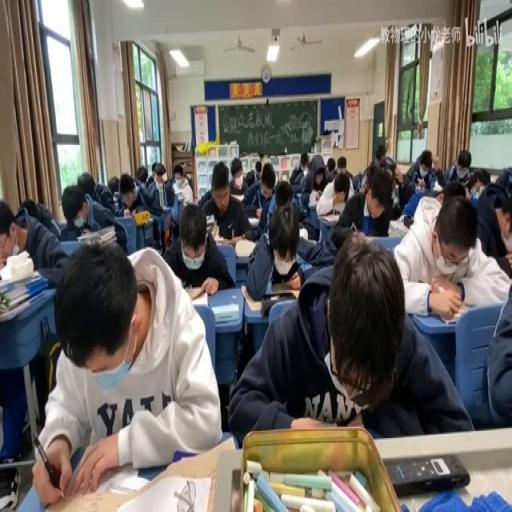calculator: (0, 266, 50, 320), (245, 278, 299, 308), (428, 299, 473, 324), (212, 302, 238, 322), (211, 219, 231, 243), (184, 286, 207, 306), (234, 238, 256, 258), (388, 218, 406, 236), (320, 213, 339, 225), (205, 214, 216, 234), (299, 233, 316, 245), (291, 184, 303, 200), (307, 194, 318, 208), (173, 188, 185, 200), (246, 214, 260, 224)
paper: (226, 230, 466, 441), (34, 239, 220, 503), (163, 200, 234, 294), (1, 196, 66, 276), (58, 179, 128, 253), (331, 168, 386, 247), (485, 268, 512, 428), (474, 168, 512, 262), (246, 168, 278, 236), (404, 146, 440, 192), (147, 162, 177, 209), (444, 148, 475, 189), (300, 154, 326, 198), (302, 237, 336, 269), (118, 173, 138, 212), (228, 157, 246, 199), (272, 179, 291, 209), (358, 161, 374, 193), (334, 154, 352, 180), (76, 171, 94, 195), (334, 179, 348, 202), (134, 165, 148, 186), (198, 185, 212, 206), (106, 176, 118, 198), (375, 142, 386, 165), (382, 155, 394, 176), (476, 174, 490, 190), (113, 192, 122, 215), (434, 166, 444, 186), (254, 160, 262, 178), (245, 170, 254, 186), (146, 174, 155, 188), (174, 168, 183, 182), (326, 158, 334, 173), (185, 174, 192, 189), (256, 152, 262, 161)
person: (384, 452, 470, 496), (403, 213, 414, 226)
